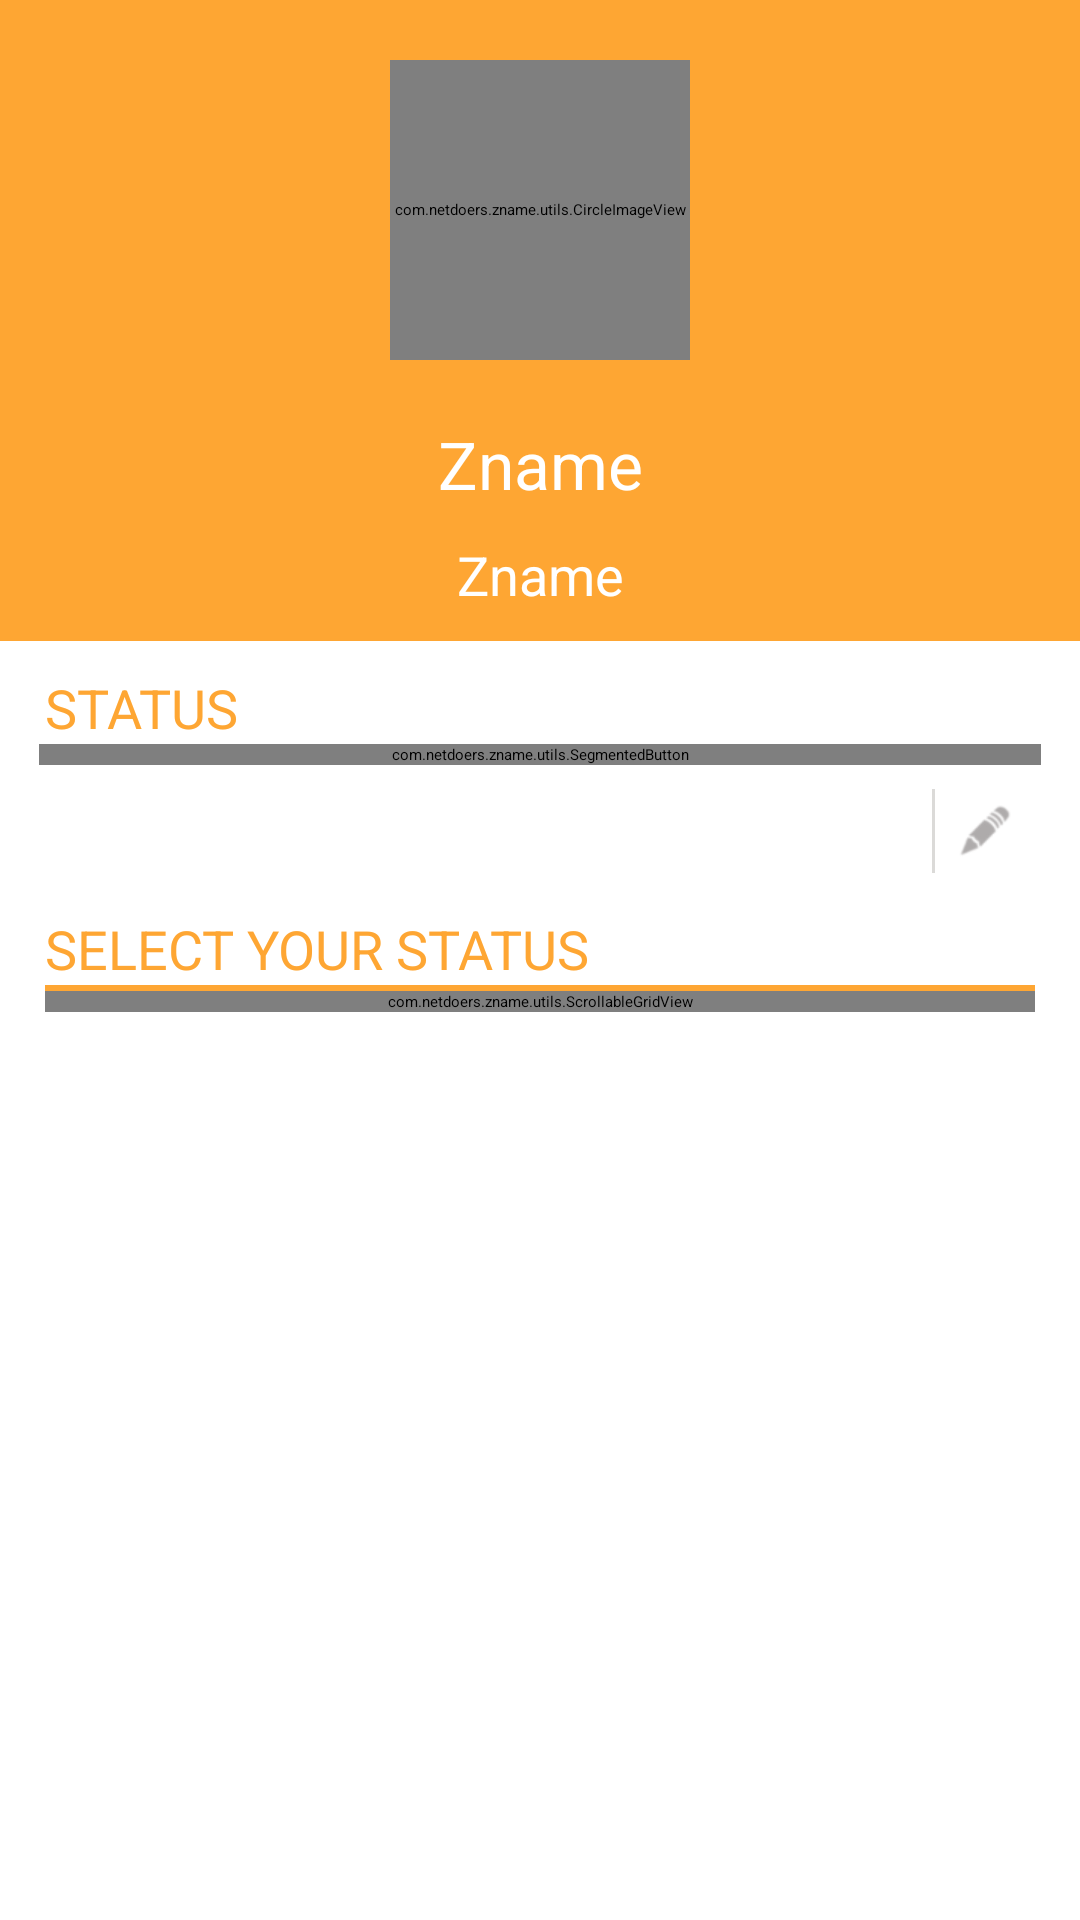

Screen size 1080*1920. Icon name, then its box in pixels as [x1, y1, x2, y2]:
profile edit: [961, 806, 1009, 855]
